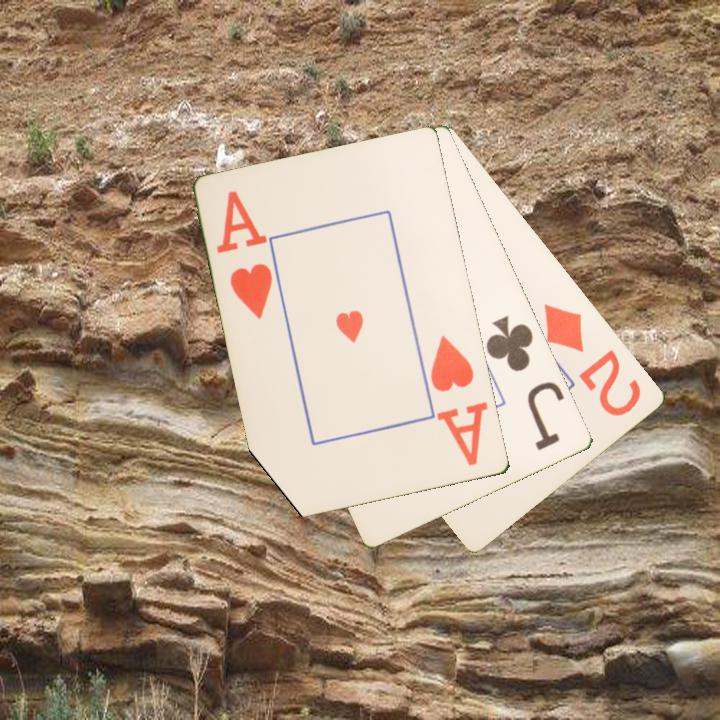2d: (540, 300, 645, 420)
Ah: (427, 332, 492, 469), (213, 187, 276, 322)
Jc: (482, 312, 568, 454)
